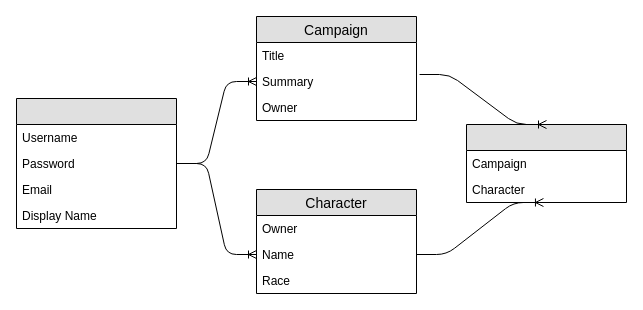
Some shapes in this 643 by 310 pixel diagram are drawn without their labels. The shapes that lost their labels are listed below. From the top down, each one's box as (x1, y1, x2, y2) in pixels, then its label:
(16, 98, 176, 228): Account
(466, 124, 626, 202): Campaign character
